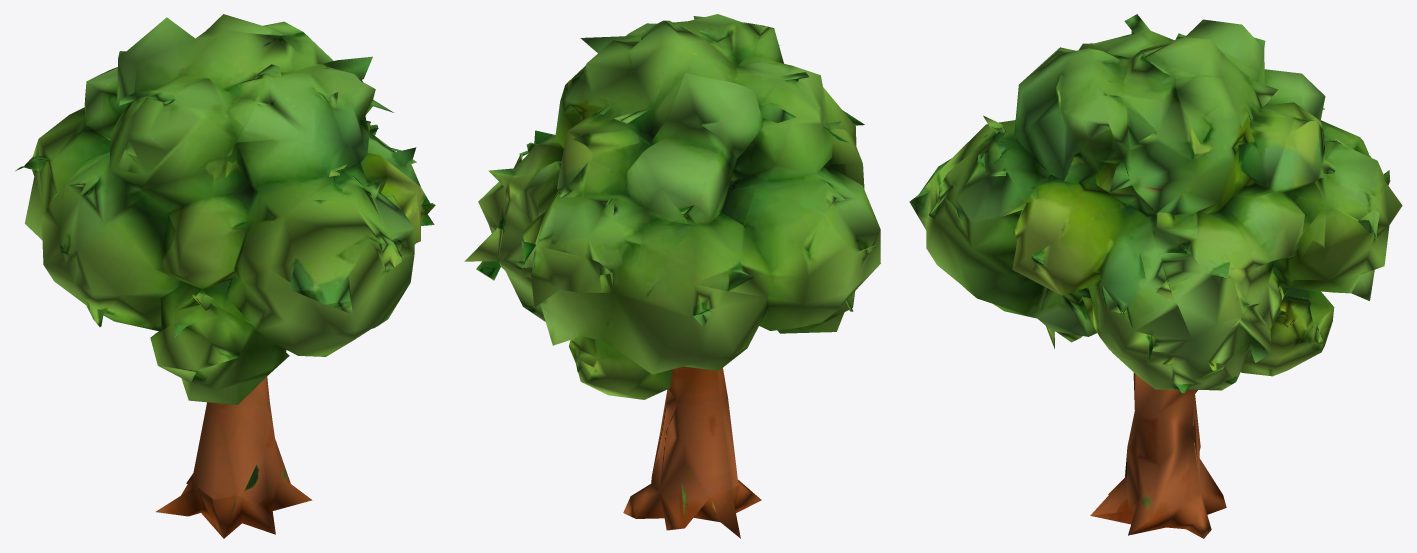
File: tree.glb
The picture shows the model from 3 angles, left to right: view 1: azimuth 30°, elevation 25°; view 2: azimuth 150°, elevation 25°; view 3: azimuth 270°, elevation 25°; orthographic projection.
Parts seen in each view (by area): view 1: node_c87c8c1f-d965-4071-a7bf-220fe6b372d6; view 2: node_c87c8c1f-d965-4071-a7bf-220fe6b372d6; view 3: node_c87c8c1f-d965-4071-a7bf-220fe6b372d6.
Part boxes in pixels (x1,y1,x2,y2): node_c87c8c1f-d965-4071-a7bf-220fe6b372d6: (15,14,435,538); node_c87c8c1f-d965-4071-a7bf-220fe6b372d6: (464,14,880,538); node_c87c8c1f-d965-4071-a7bf-220fe6b372d6: (909,14,1402,538).
Bounding box in the file's own units: 0.8059 × 0.9927 × 0.9246.
1 material, 1 textured.
